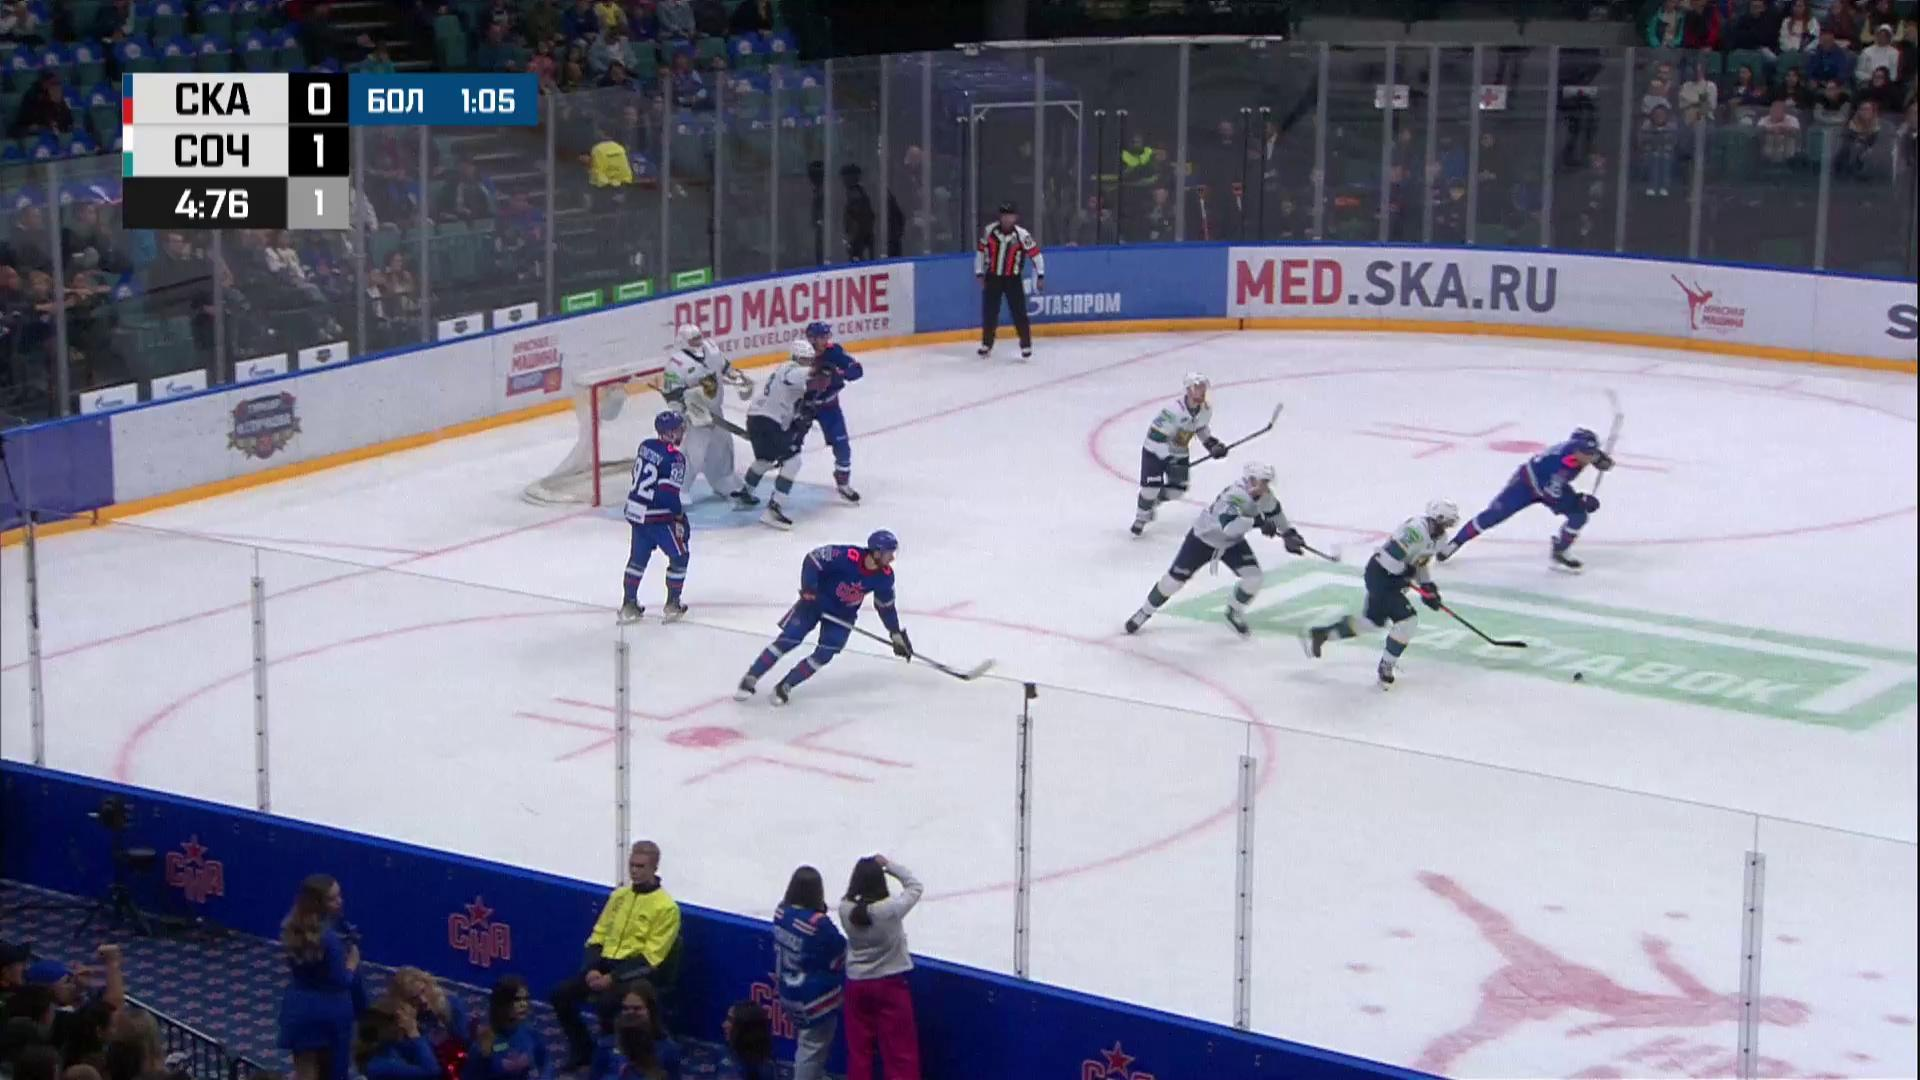ball: (1573, 673, 1582, 680)
